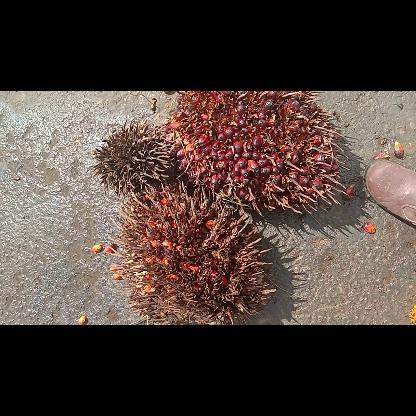Janjang kosong: (92, 120, 182, 198)
TBS masak: (165, 90, 349, 214)
Terlalu masak: (110, 182, 274, 324)
